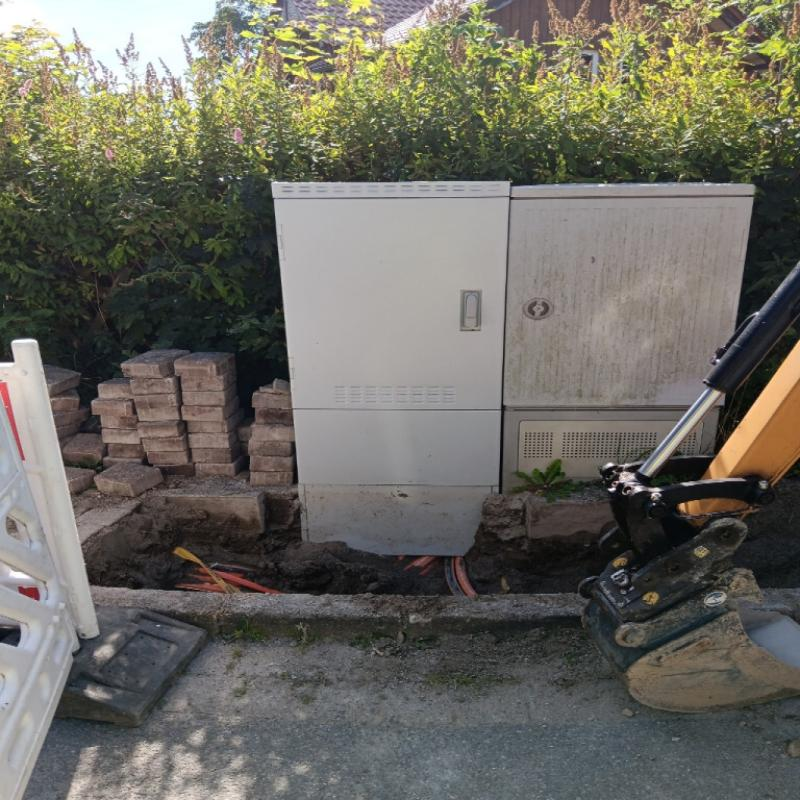NT-Gehause: (267, 183, 503, 487), (513, 186, 738, 466)
